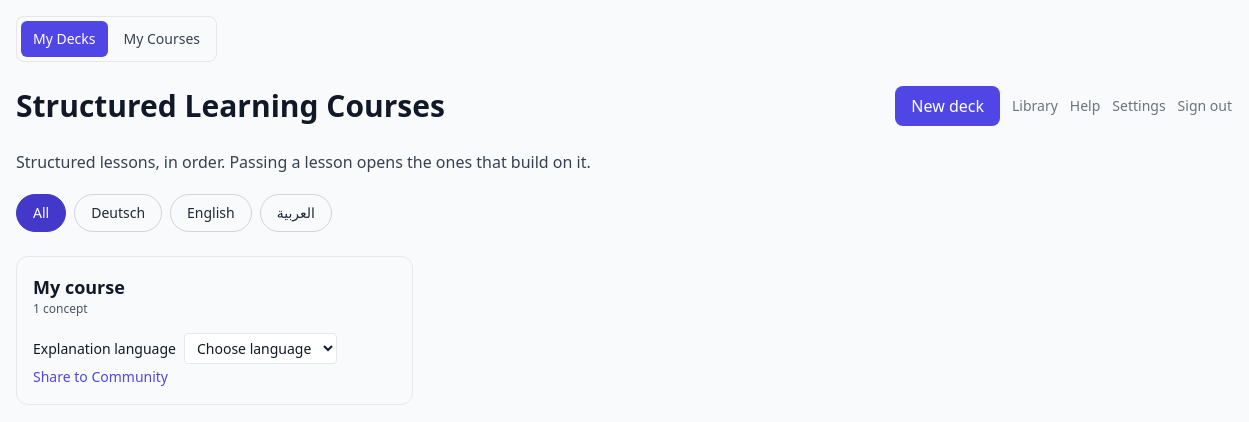
Scenario: LearnPage › lets an owner share their course with the community
This screenshot has width=1249, height=422.
Click the button "Share to Community". click: (100,377)
box: x1=33 y1=367 x2=168 y2=387
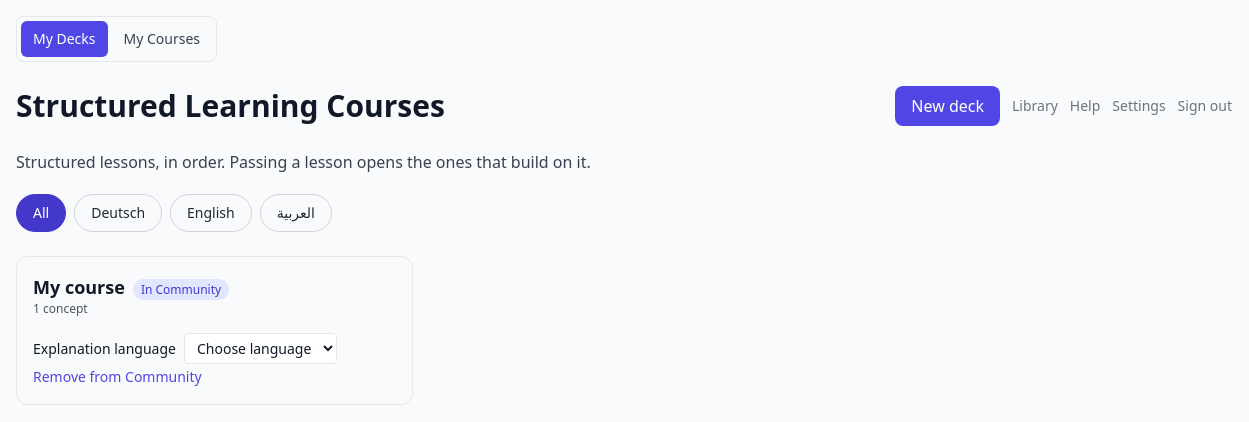
Expected: the text "In Community" is shown, x1=133 y1=279 x2=229 y2=300
Expected: the button "Remove from Community" is shown, x1=33 y1=367 x2=202 y2=387
